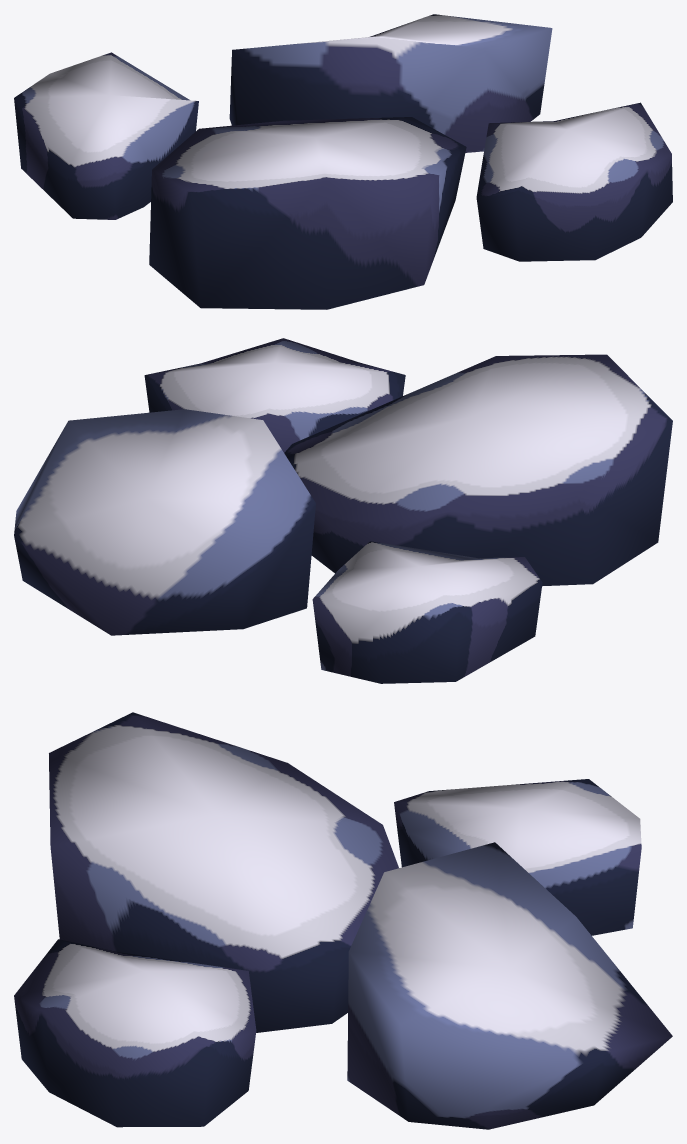
Rendered from Rock 3x 3 10_preview_3DS_simplified.glb.
3 renders of one model, top to bottom at view 1: azimuth 30°, elevation 25°; view 2: azimuth 150°, elevation 25°; view 3: azimuth 270°, elevation 25°, orthographic. The views are drawn at different scales.
Parts seen in each view (by area): view 1: Marine Park Empire model; view 2: Marine Park Empire model; view 3: Marine Park Empire model.
Boxes of the visible parts, x1,y1,x2,y2 form: Marine Park Empire model: (14, 14, 672, 309); Marine Park Empire model: (14, 338, 672, 683); Marine Park Empire model: (14, 712, 672, 1129).
Size of the model in its own units: 93.28 by 24.39 by 92.37.
1 material, 1 textured.
